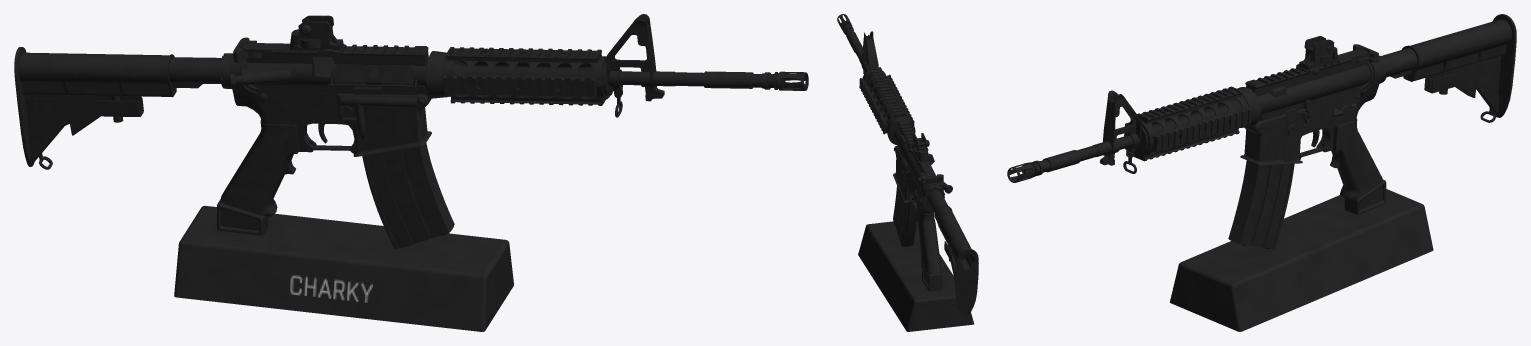
3 views of the same model, side by side, from view 1: azimuth 30°, elevation 25°; view 2: azimuth 150°, elevation 25°; view 3: azimuth 270°, elevation 25° (orthographic). The views are drawn at different scales.
Parts seen in each view (by area): view 1: statue53002; view 2: statue53002; view 3: statue53002.
Boxes of the visible parts, x1=… form: statue53002: x1=14, y1=14, x2=808, y2=331; statue53002: x1=837, y1=14, x2=978, y2=331; statue53002: x1=1007, y1=14, x2=1516, y2=331.
Size of the model in its own units: 0.2257 by 0.1284 by 0.2256.
1 material, 1 textured.
